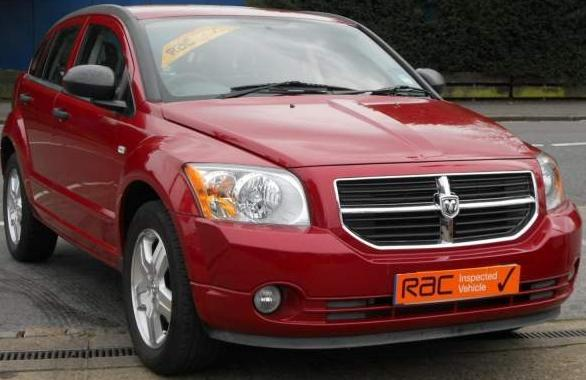front_view: (163, 142, 585, 327)
headlight: (197, 167, 322, 248)
side_glass: (52, 16, 139, 113)
